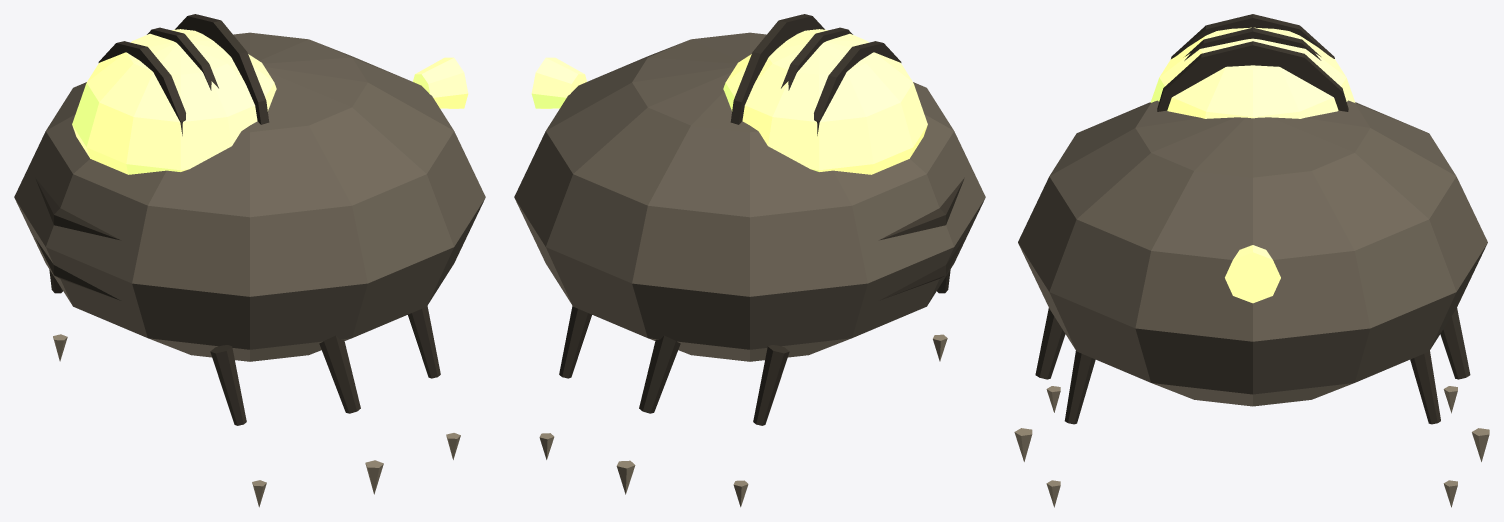
Rendered from bl_spitter.glb.
3 renders of one model, left to right at view 1: azimuth 30°, elevation 25°; view 2: azimuth 150°, elevation 25°; view 3: azimuth 270°, elevation 25°, orthographic.
Visible parts, largest first — view 1: body, leg_3_b, turret, leg_1_a, leg_5_a; view 2: body, leg_2_a, turret, leg_0_b, leg_4_b; view 3: body, turret, leg_2_a, leg_3_b, leg_5_a, leg_4_b.
Part boxes in pixels (x1=…): body: x1=14, y1=14, x2=485, y2=361; leg_3_b: x1=319, y1=335, x2=383, y2=494; turret: x1=413, y1=57, x2=468, y2=108; leg_1_a: x1=210, y1=345, x2=266, y2=507; leg_5_a: x1=408, y1=306, x2=460, y2=459; body: x1=514, y1=14, x2=985, y2=361; leg_2_a: x1=616, y1=335, x2=680, y2=494; turret: x1=531, y1=57, x2=586, y2=108; leg_0_b: x1=733, y1=345, x2=789, y2=507; leg_4_b: x1=539, y1=306, x2=591, y2=459; body: x1=1018, y1=14, x2=1487, y2=406; turret: x1=1225, y1=245, x2=1280, y2=303; leg_2_a: x1=1440, y1=308, x2=1489, y2=461; leg_3_b: x1=1014, y1=308, x2=1065, y2=461; leg_5_a: x1=1046, y1=351, x2=1095, y2=507; leg_4_b: x1=1410, y1=351, x2=1457, y2=507.
Bounding box in the file's own units: 20 × 18.72 × 20.21.
